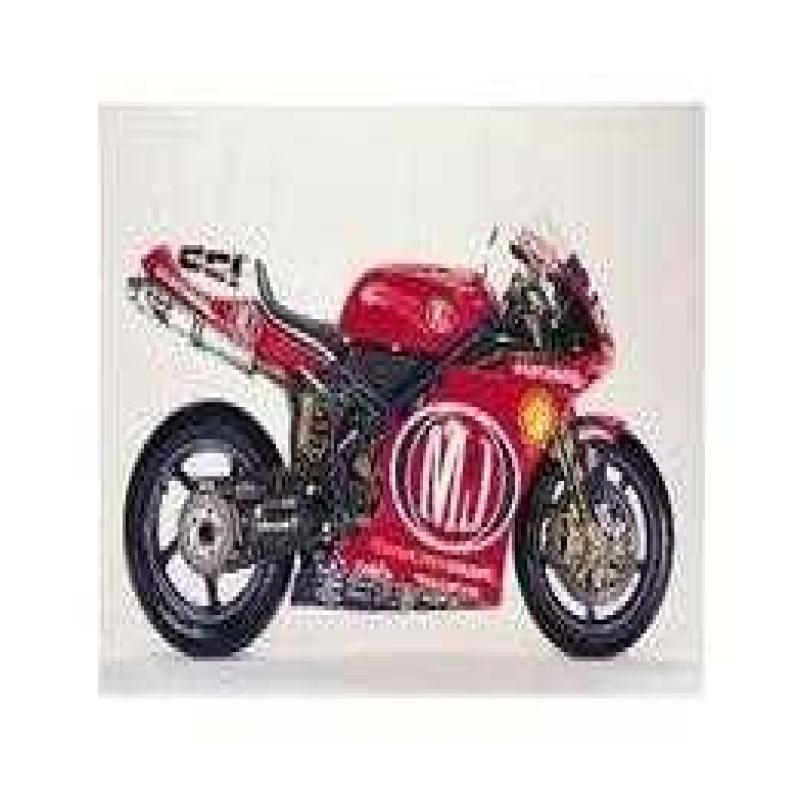bike: (102, 173, 674, 672)
